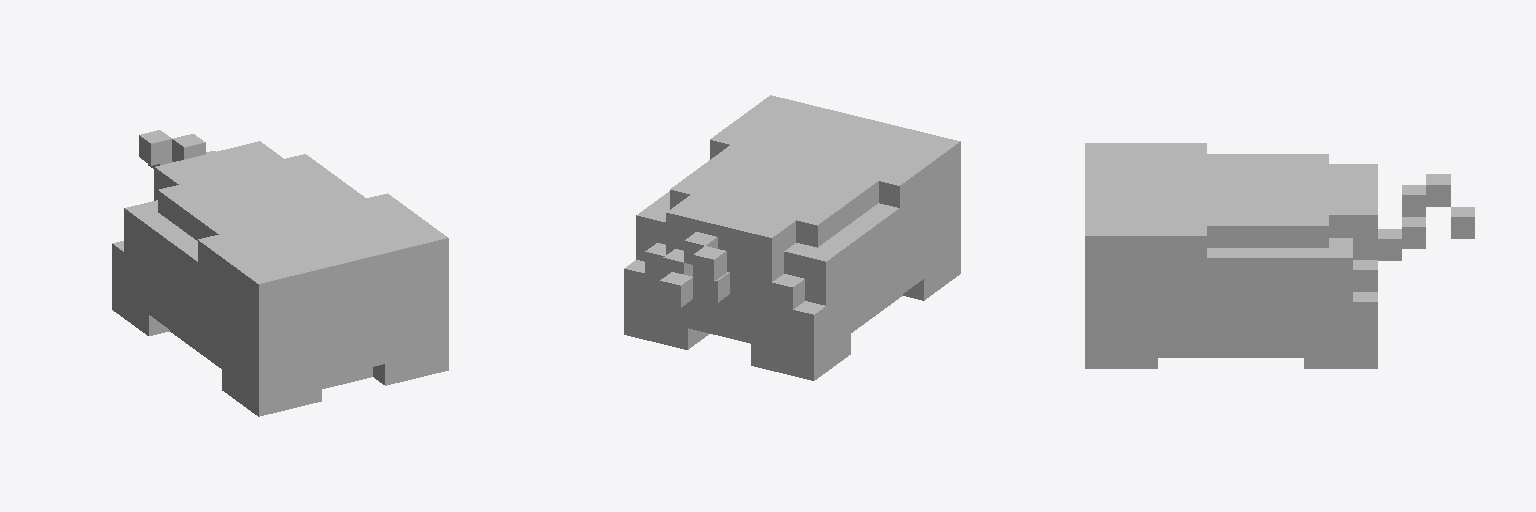
The model's file is butaBD.obj.
3 views of the same model, side by side, from view 1: azimuth 30°, elevation 25°; view 2: azimuth 150°, elevation 25°; view 3: azimuth 270°, elevation 25° (orthographic).
Visible parts, largest first — view 1: Untitled; view 2: Untitled; view 3: Untitled.
Part boxes in pixels (bbox=[...]): Untitled: bbox=[112, 130, 448, 416]; Untitled: bbox=[624, 95, 960, 380]; Untitled: bbox=[1085, 143, 1474, 368].
Size of the model in its own units: 0.9 by 0.6 by 1.6.